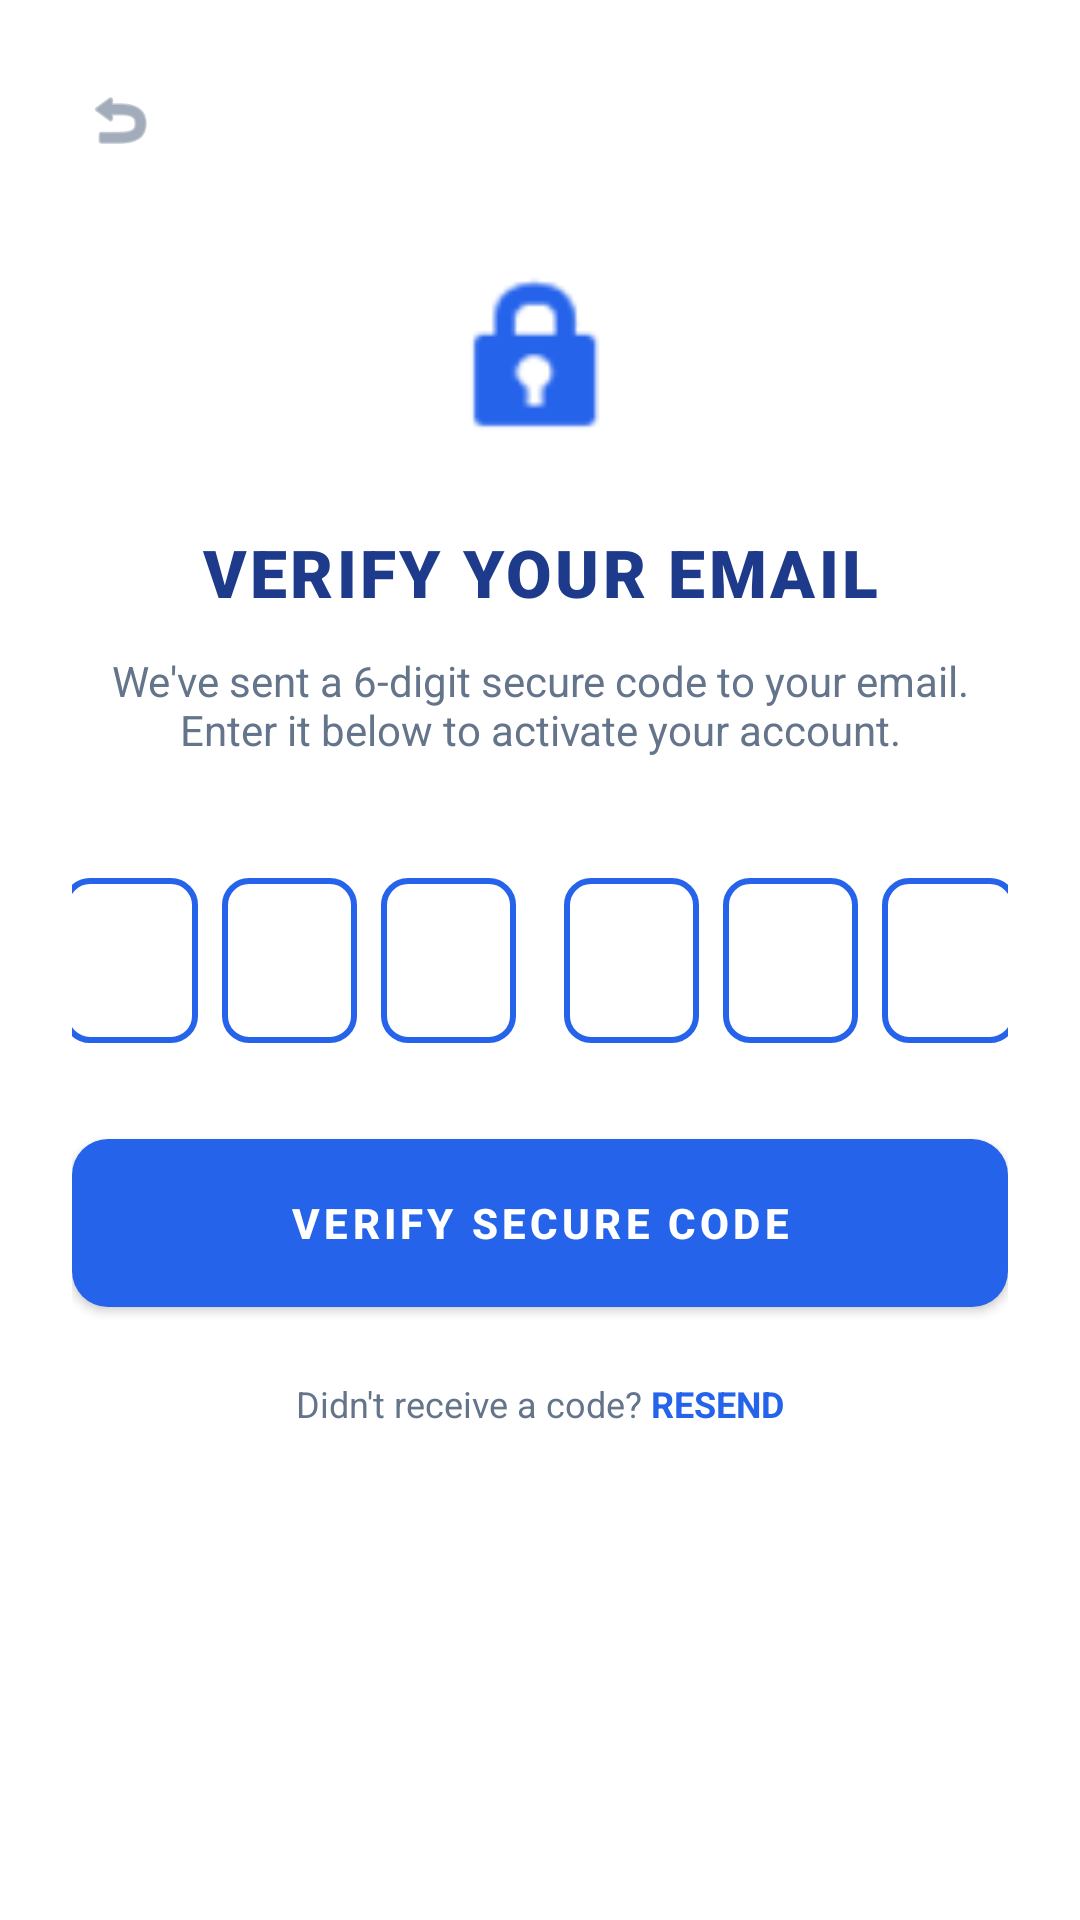

Named icons in this screenshot (1080*1920) and their bounding boxes, rect(x1, y1, x2, y2):
lock idle: rect(472, 280, 599, 428)
revert: rect(95, 97, 147, 144)
